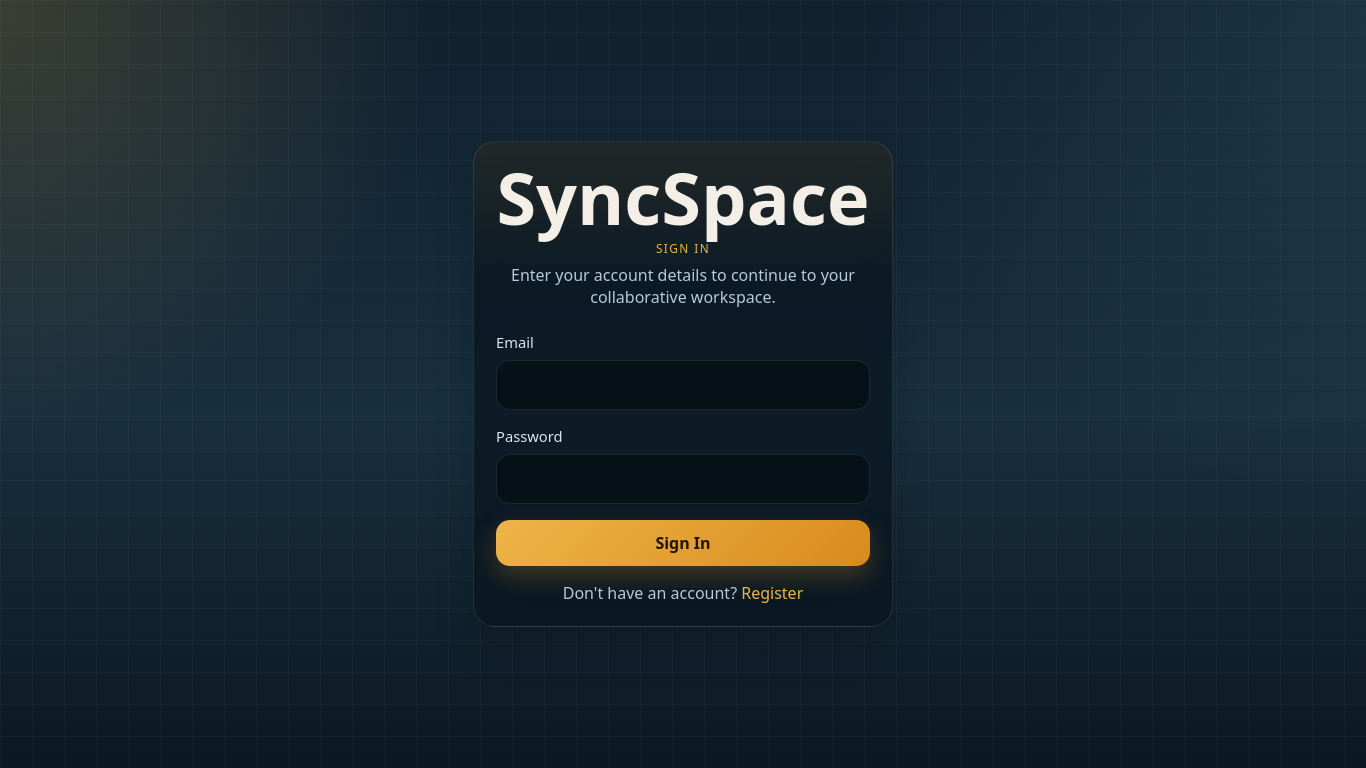
Scenario: Authentication Pages › LoginPage › displays error message on login failure
The width and height of the screenshot is (1366, 768).
Type "wrong@example.com" into the field at [683, 385], box [496,360,870,410]
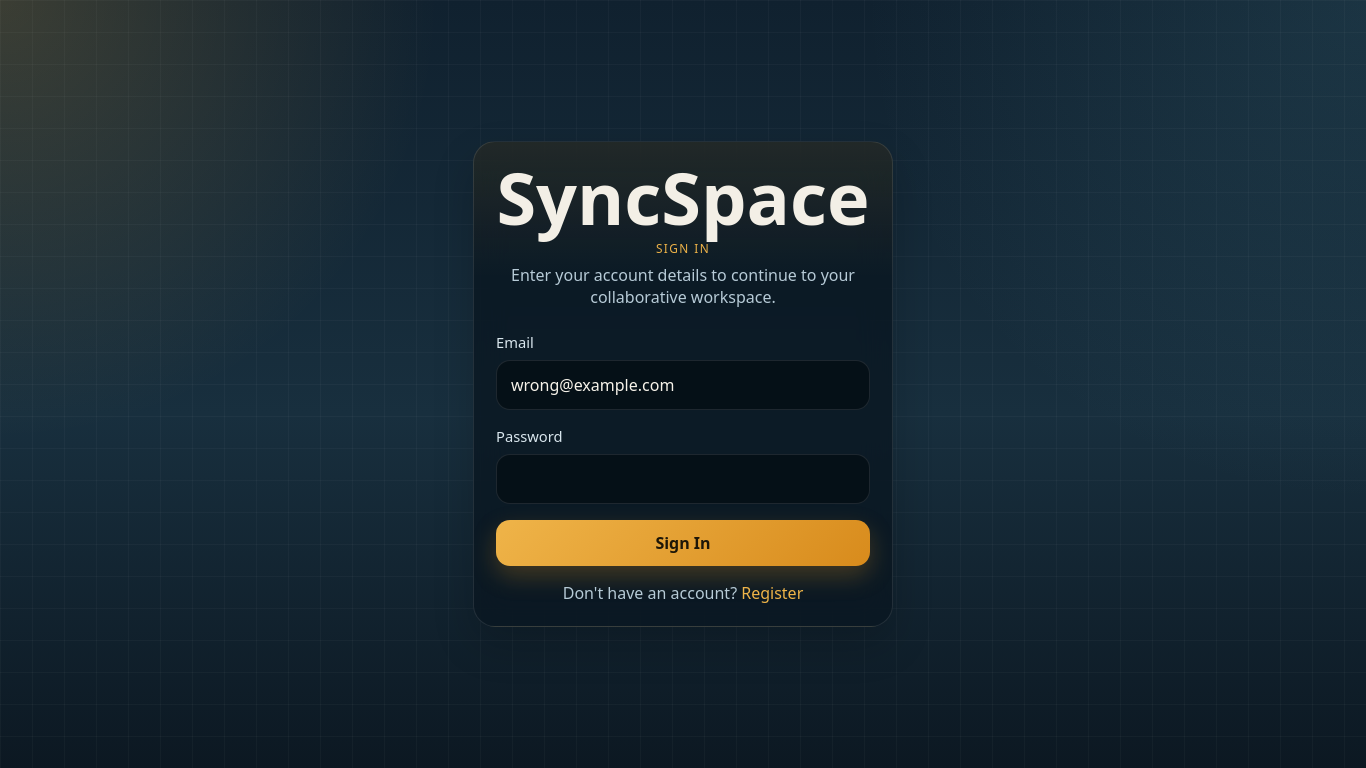
Type "wrongpass" into the password field at [683, 479], box [496,454,870,504]
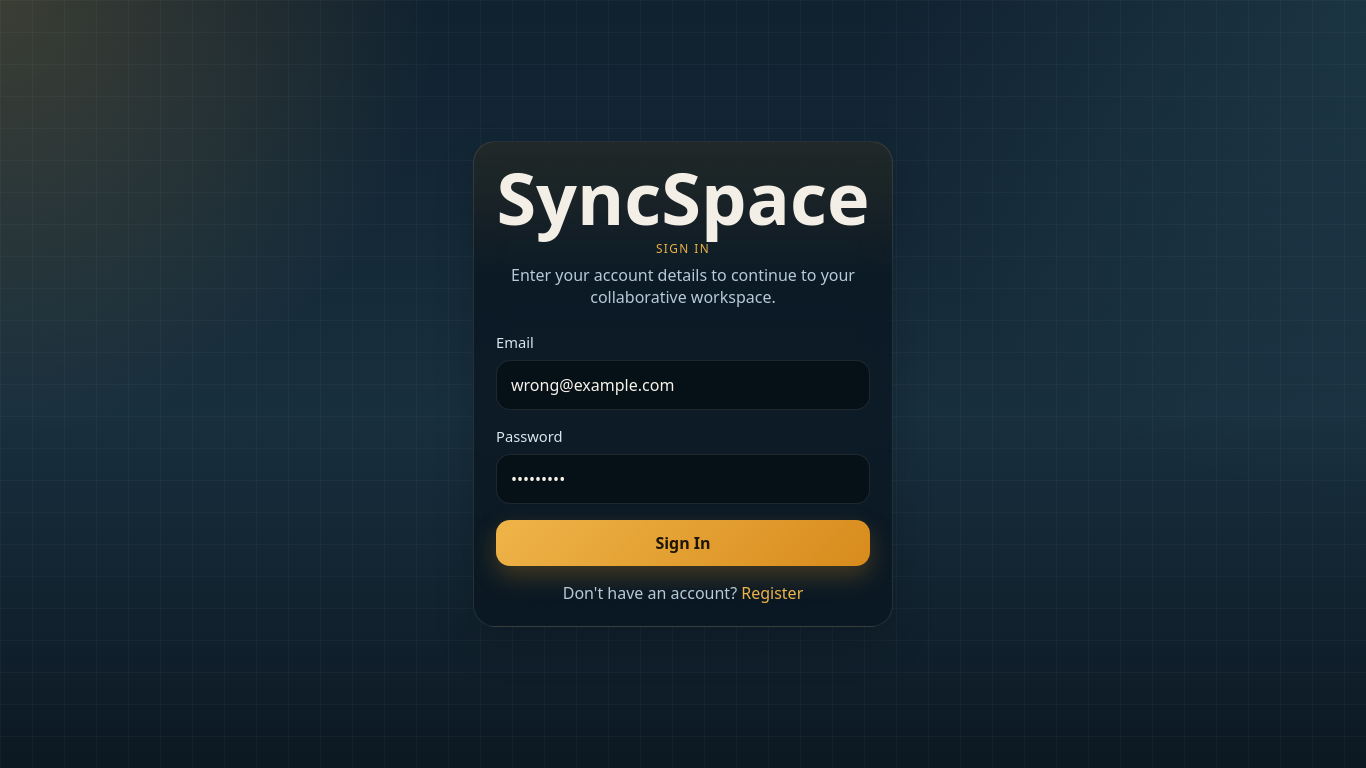
Click the button "Sign In" at [683, 543], box [496,520,870,566]
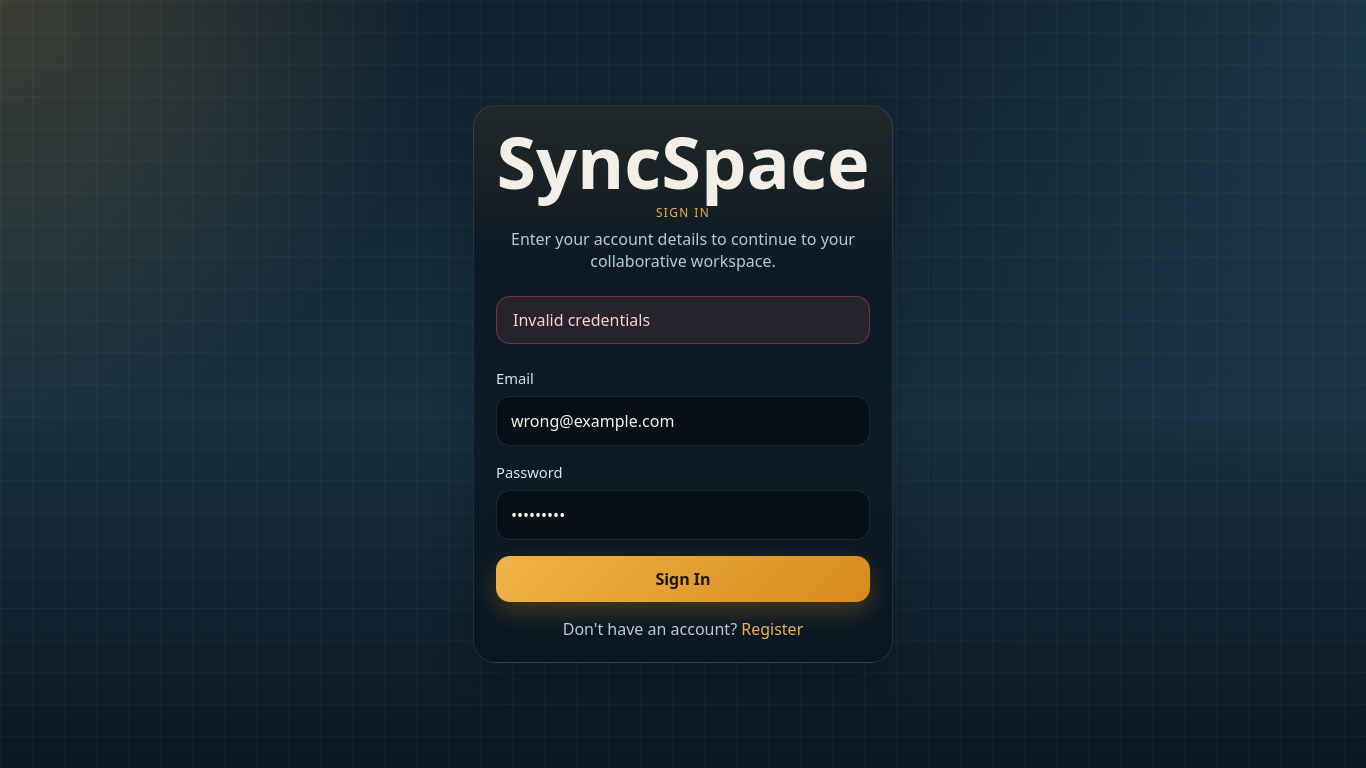
Expected: the text "Invalid credentials" is shown, [496,296,870,344]
